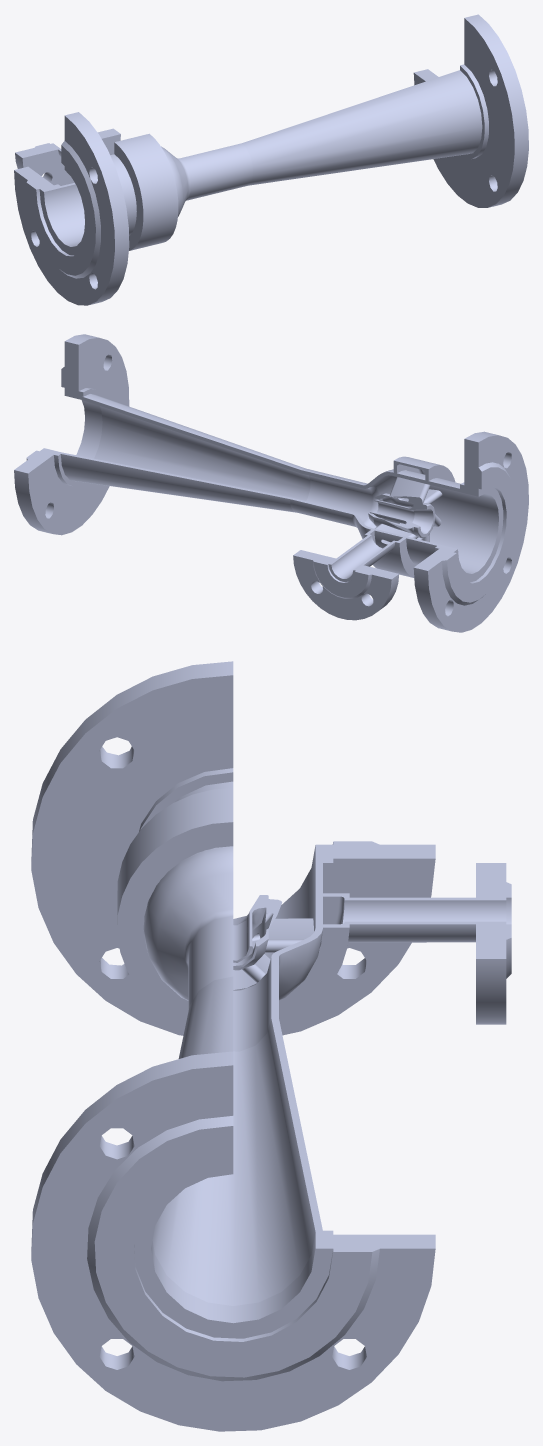
The model's file is 4 - струйный насос с закруткой потока.FBX.
The picture shows the model from 3 angles, top to bottom: view 1: azimuth 30°, elevation 25°; view 2: azimuth 150°, elevation 25°; view 3: azimuth 270°, elevation 25°; orthographic projection. The views are drawn at different scales.
Parts seen in each view (by area): view 1: Зеркальное отражение1, Круговой массив3; view 2: Зеркальное отражение1, Круговой массив3; view 3: Зеркальное отражение1, Круговой массив3.
Part boxes in pixels (box(x1,y1,x2,y2)): Зеркальное отражение1: box(14, 14, 528, 305); Круговой массив3: box(15, 128, 178, 250); Зеркальное отражение1: box(14, 334, 528, 632); Круговой массив3: box(293, 456, 455, 620); Зеркальное отражение1: box(31, 661, 435, 1431); Круговой массив3: box(117, 788, 511, 1024).
Size of the model in its own units: 384 by 160 by 190.
